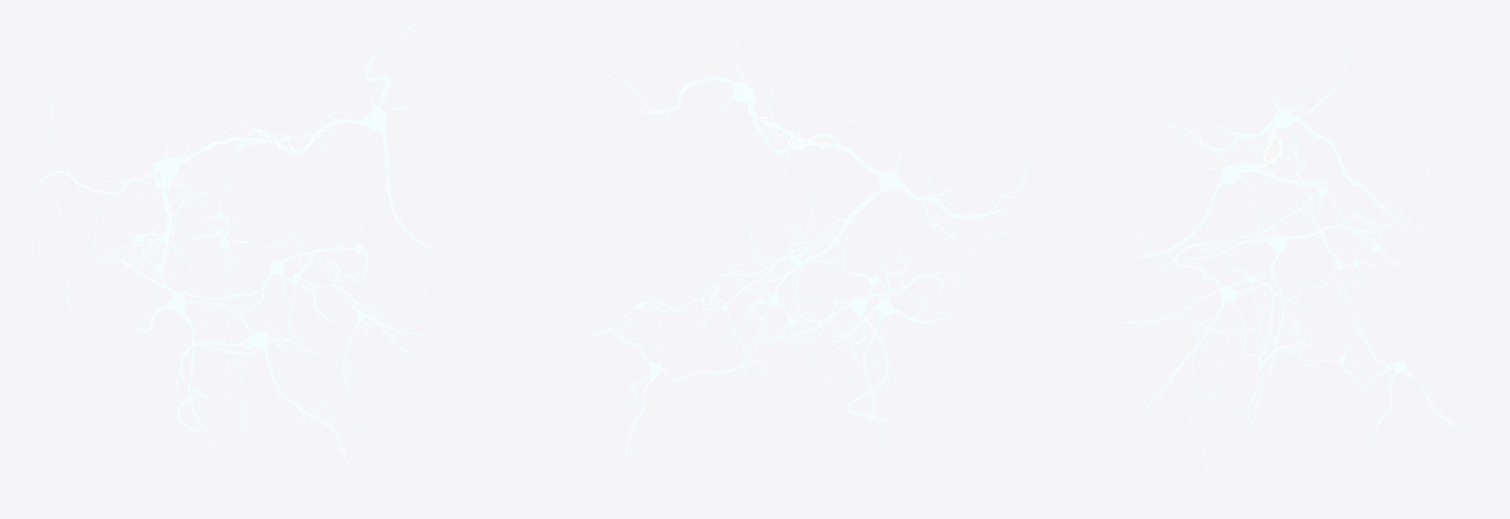
Rendered from singuCC.glb.
3 views of the same model, side by side, from view 1: azimuth 30°, elevation 25°; view 2: azimuth 150°, elevation 25°; view 3: azimuth 270°, elevation 25° (orthographic). The views are drawn at different scales.
Visible parts, largest first — view 1: Toon_geo; view 2: Toon_geo; view 3: Toon_geo.
Boxes of the visible parts, x1=… form: Toon_geo: x1=16, y1=14, x2=510, y2=503; Toon_geo: x1=550, y1=14, x2=1057, y2=503; Toon_geo: x1=1094, y1=18, x2=1493, y2=497.
Bounding box in the file's own units: 21.3 × 20.17 × 19.06.
